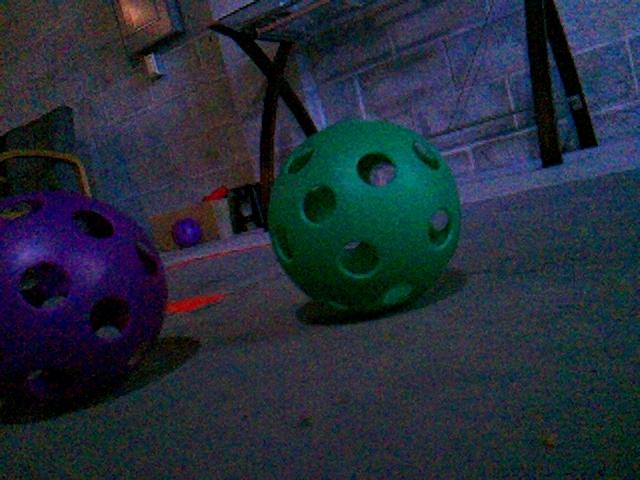Green: (265, 119, 461, 314)
Purple: (1, 192, 168, 413), (171, 217, 202, 248)
